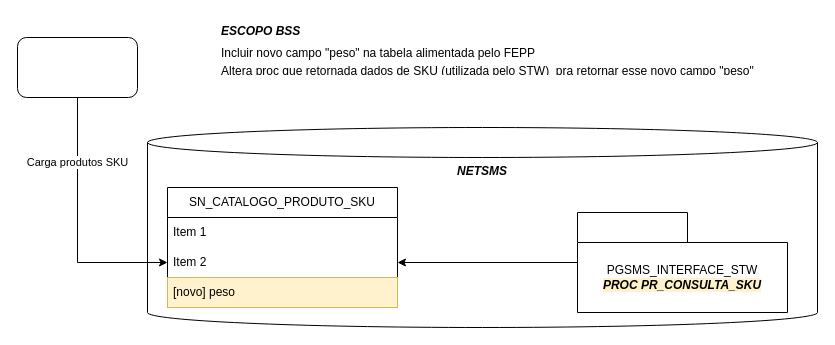
Image size: 835x345. Some labels were removed from this diagram. Here are the shapes that lost their labels. From the top down, the centre of each, then its label:
At pixel 77 67: "FEPP".
At pixel 682 262: "Package".
